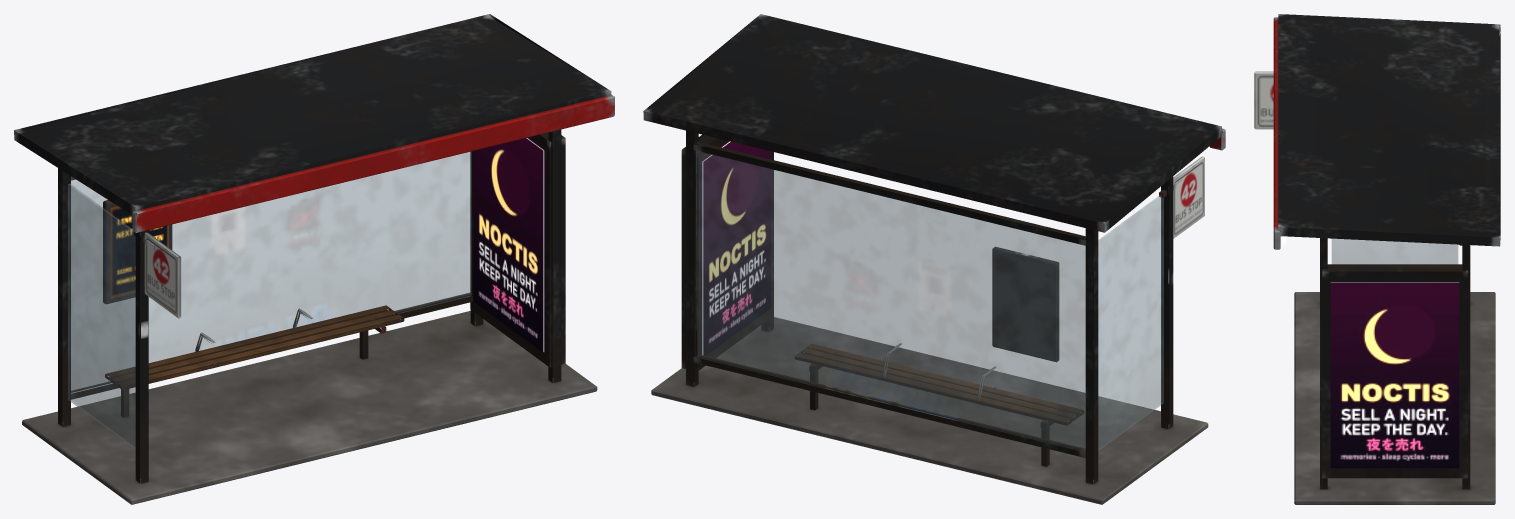
Rendered from bus_stop_lod1.glb.
3 views of the same model, side by side, from view 1: azimuth 30°, elevation 25°; view 2: azimuth 150°, elevation 25°; view 3: azimuth 270°, elevation 25° (orthographic). The views are drawn at different scales.
Parts seen in each view (by area): view 1: bus_stop; view 2: bus_stop; view 3: bus_stop.
Boxes of the visible parts, x1=… form: bus_stop: x1=14, y1=14, x2=614, y2=504; bus_stop: x1=643, y1=14, x2=1225, y2=504; bus_stop: x1=1254, y1=14, x2=1500, y2=504.
Size of what is drawn, in the model's own units: 4.42 by 2.69 by 2.15.
1 material, 1 textured.
